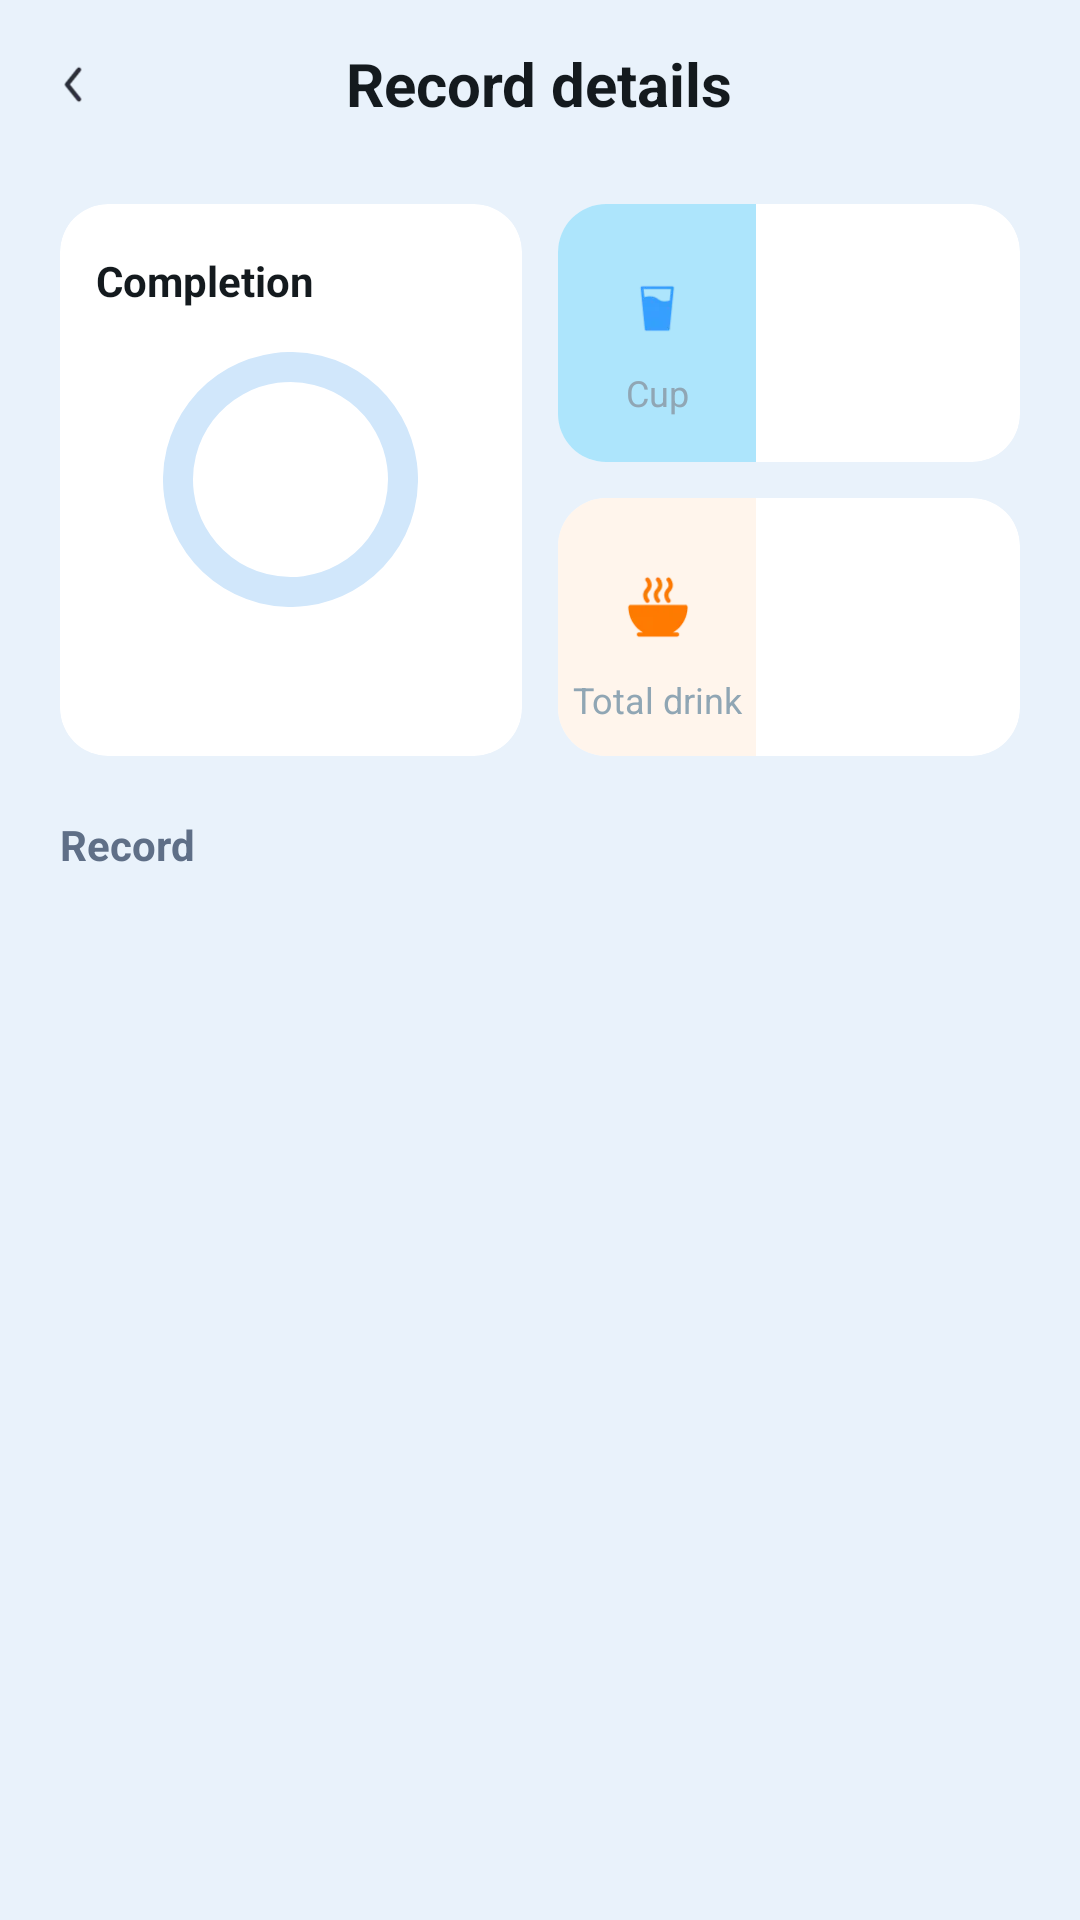

Icons on this 1080px x 1920px Android screen, each with its box as (x1, y1, x2, y2):
back: (64, 67, 82, 102)
